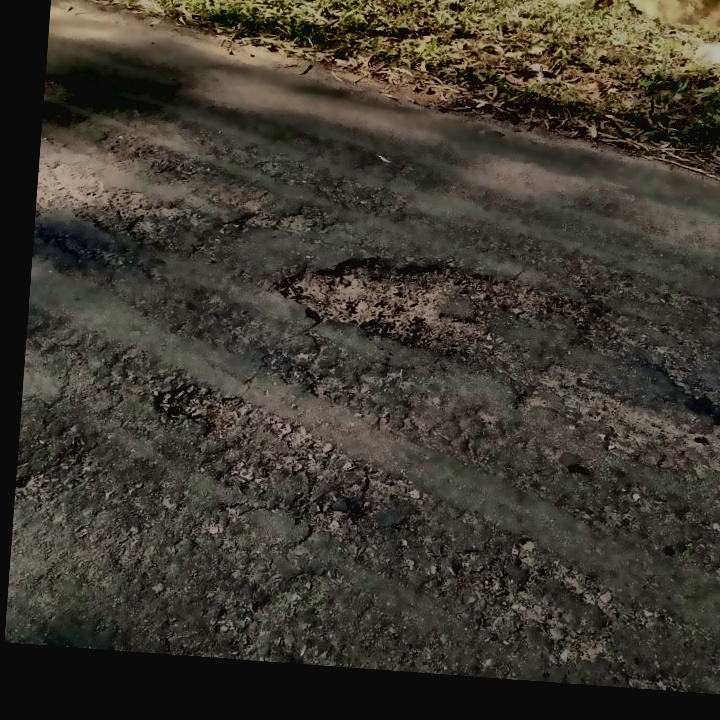pothole: (268, 244, 582, 366), (149, 377, 243, 439)
